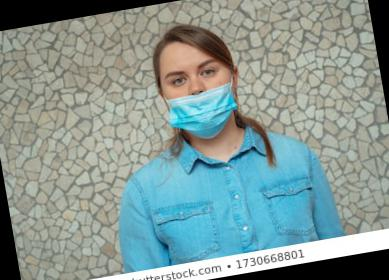mask_weared_incorrect: (160, 56, 235, 135)
